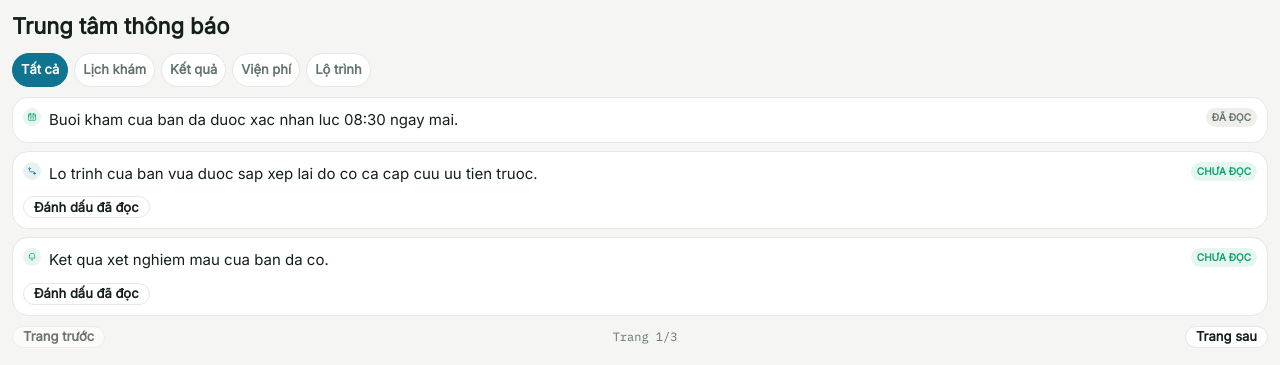
Test case: NotificationsPage (SCR-09 Notifications center) › paginates to a second page of notifications
Expected: the text "Buoi kham cua ban da duoc xac nhan luc 08:30 ngay mai." is shown, [49,108,458,132]
Click the button "Trang sau".
click(1226, 337)  # box [1185,326,1268,348]
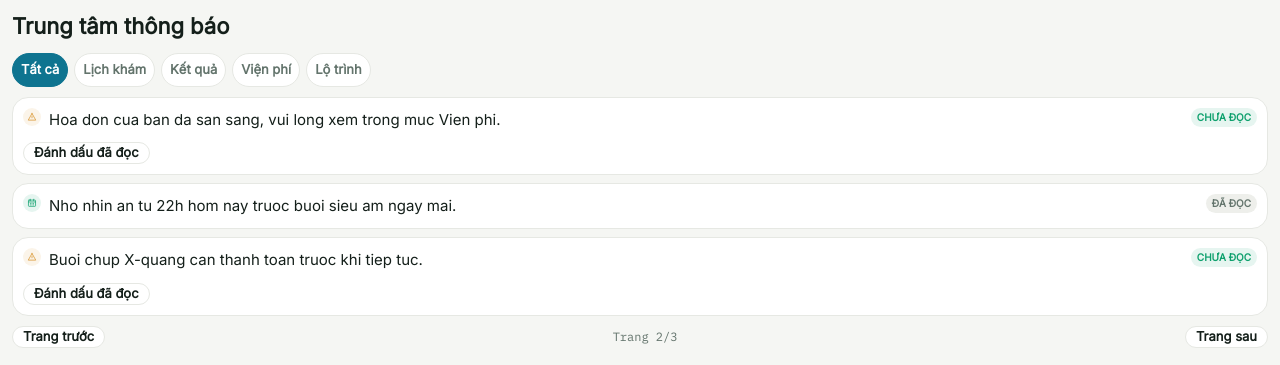
Now the text "Hoa don cua ban da san sang, vui long xem trong muc Vien phi." is shown, box [49,108,500,132]
Now the text "Buoi kham cua ban da duoc xac nhan luc 08:30 ngay mai." is gone
